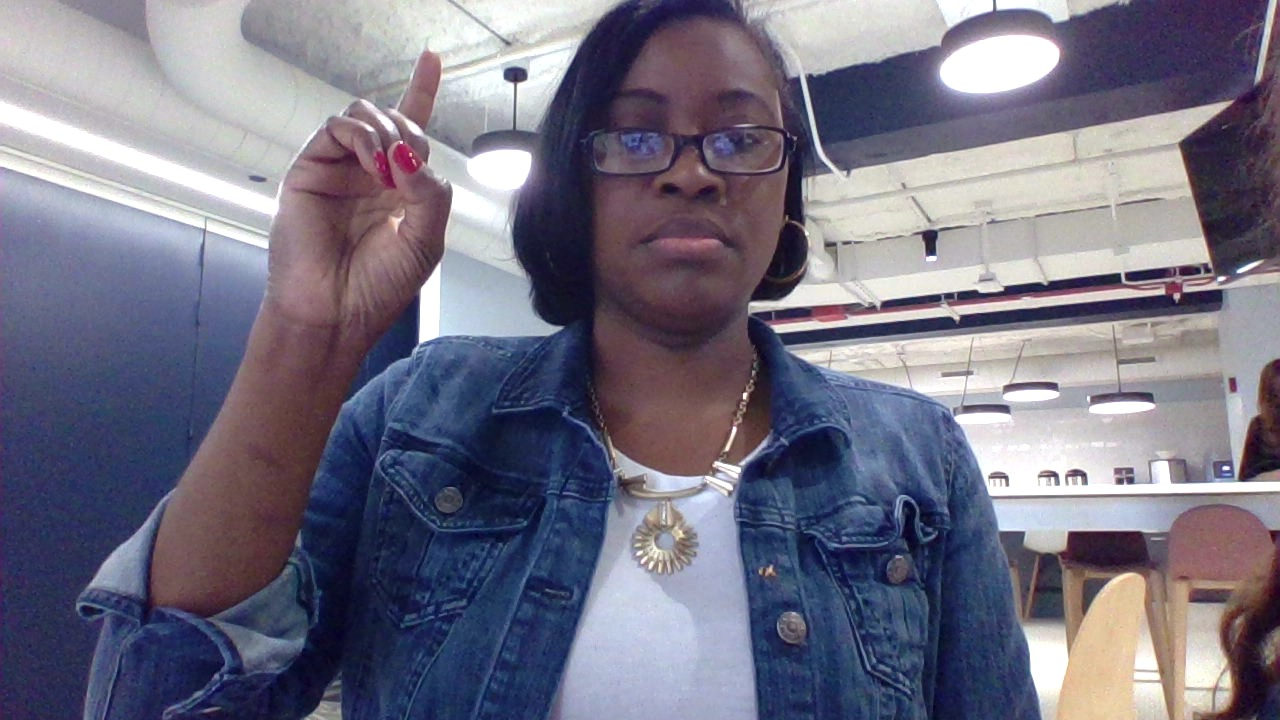d: (247, 29, 470, 376)
